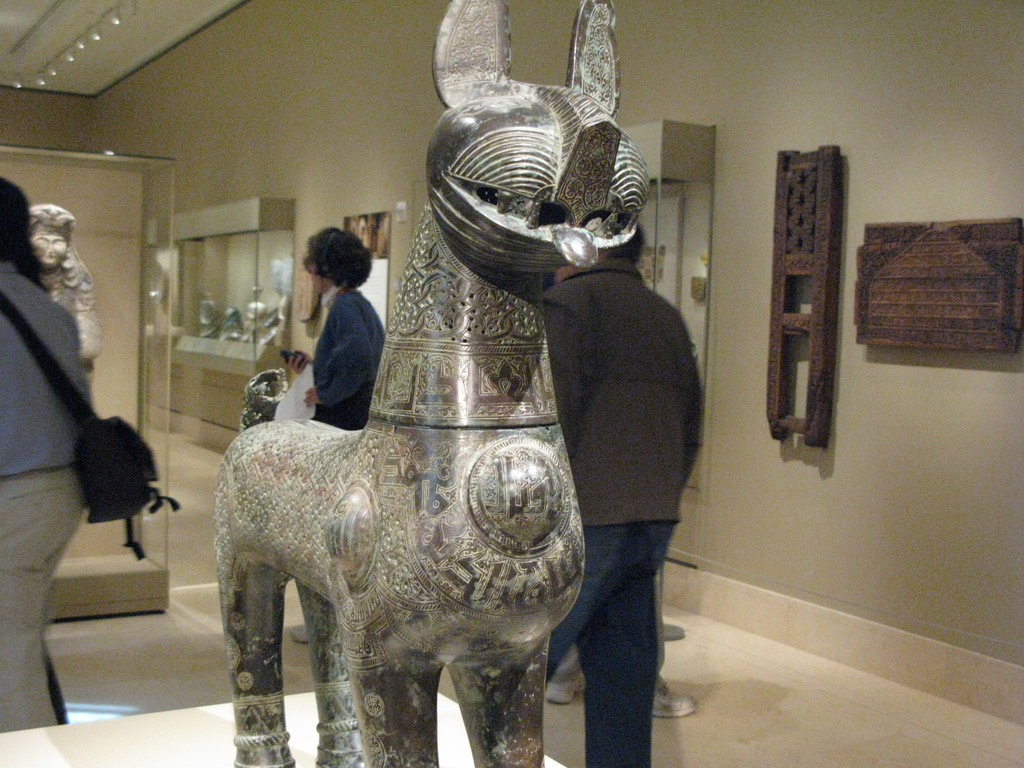Animal: (211, 0, 648, 766)
